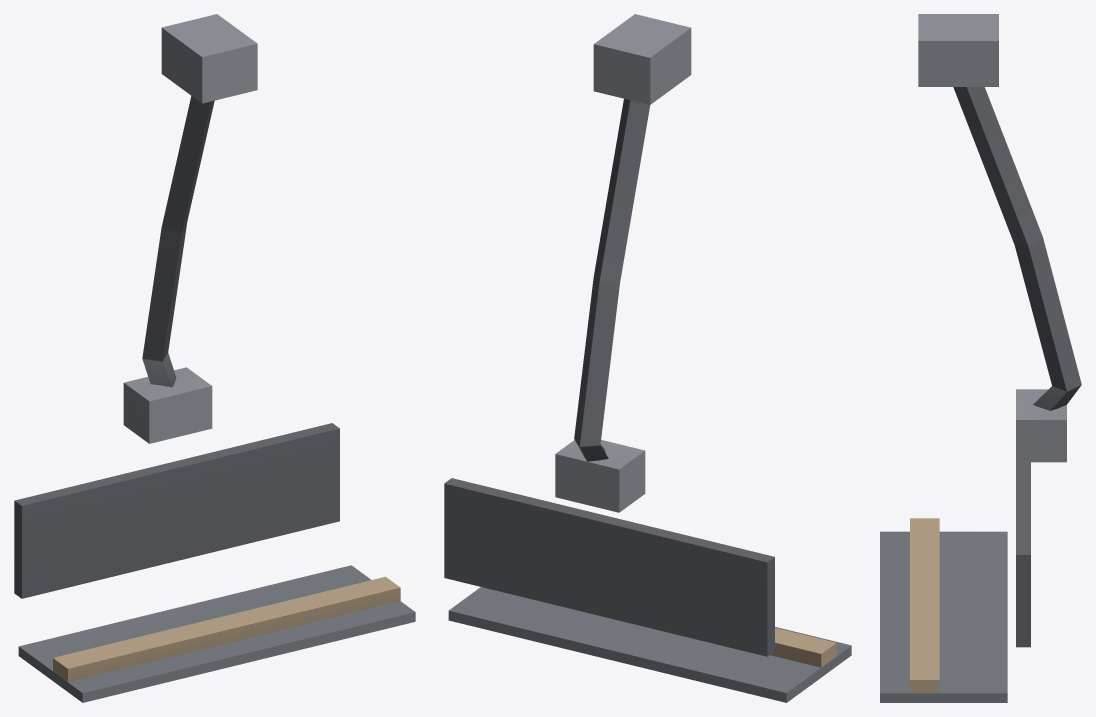
Rendered from chair.lod2.glb.
The picture shows the model from 3 angles, left to right: view 1: azimuth 30°, elevation 25°; view 2: azimuth 150°, elevation 25°; view 3: azimuth 270°, elevation 25°; orthographic projection. The views are drawn at different scales.
Bounding box in the file's own units: 1.8 × 3.09 × 0.95.
